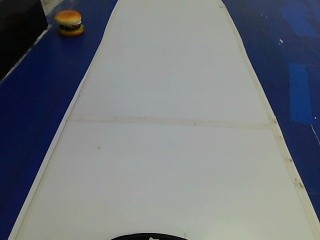burger: (45, 3, 96, 49)
